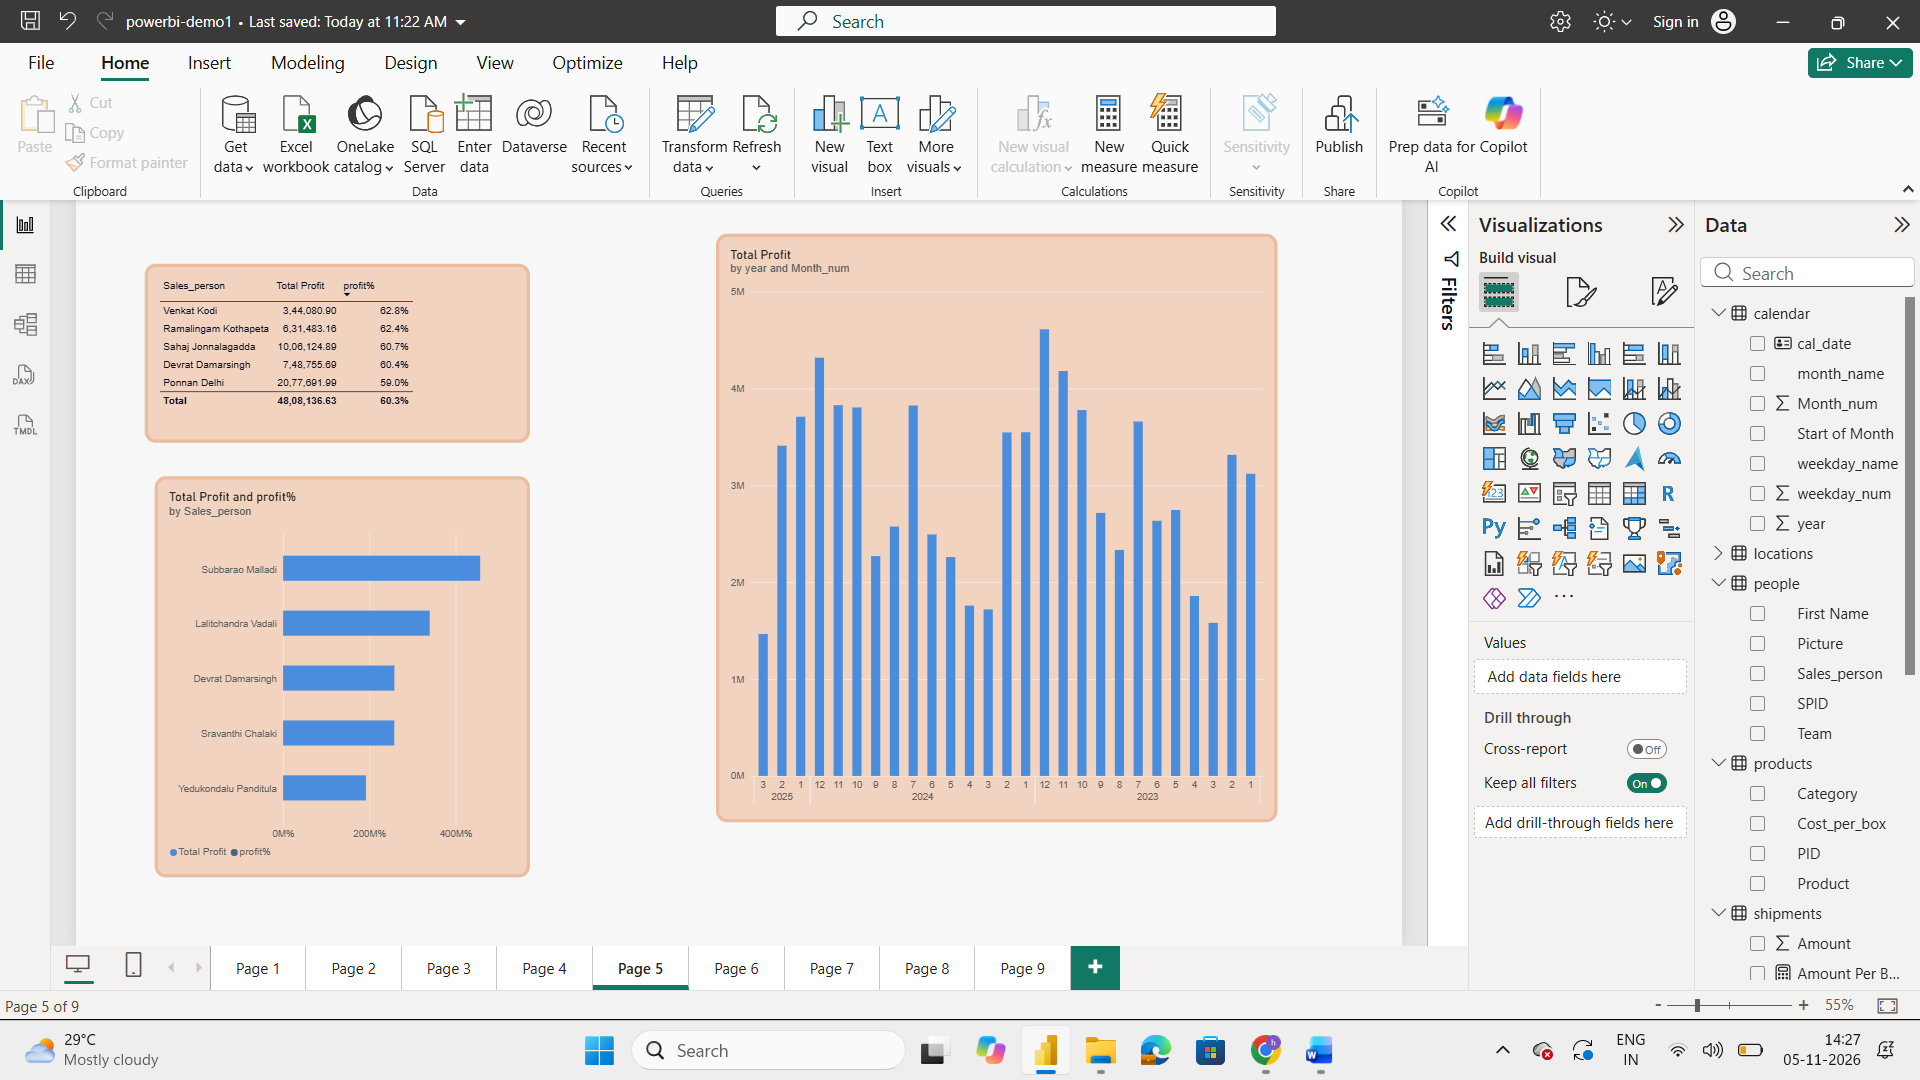

Layout of this report page (visuals, bound fields, positions):
{"tool":"powerbi","page":{"name":"Page 5","canvas":[1920,1080],"ordinal":4},"visuals":[{"type":"tableEx","fields":{"Values":["people.Sales_person","shipments.Total Profit","shipments.profit%"]},"box":[98.8,92.6,557.8,259.3],"z":0},{"type":"clusteredColumnChart","fields":{"Category":["calendar.year","calendar.Month_num"],"Y":["shipments.Total Profit"]},"box":[926.2,49.4,813,852.1],"z":1000},{"type":"barChart","fields":{"Category":["people.Sales_person"],"Y":["shipments.Total Profit","shipments.profit%"]},"box":[113.2,399.3,543.4,580.4],"z":2000}]}

Visuals, with their boxes on the page's 1920x1080 design canvas (x1, y1, x2, y2). These are canvas units, not pixel positions in the 1920x1080 screenshot, which may show the page scaled, cropped or inside an application window:
tableEx - people.Sales_person x shipments.Total Profit: {"x1": 99, "y1": 93, "x2": 657, "y2": 352}
clusteredColumnChart - calendar.year x calendar.Month_num: {"x1": 926, "y1": 49, "x2": 1739, "y2": 902}
barChart - people.Sales_person x shipments.Total Profit: {"x1": 113, "y1": 399, "x2": 657, "y2": 980}
